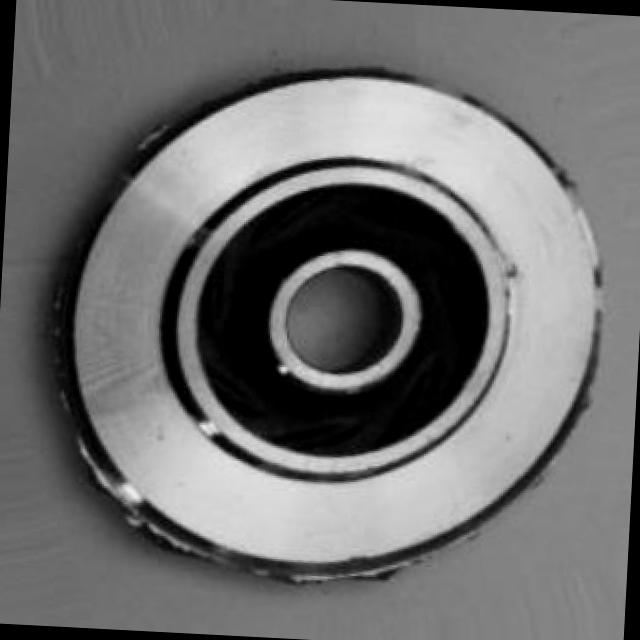Defect: (82, 438, 136, 526)
